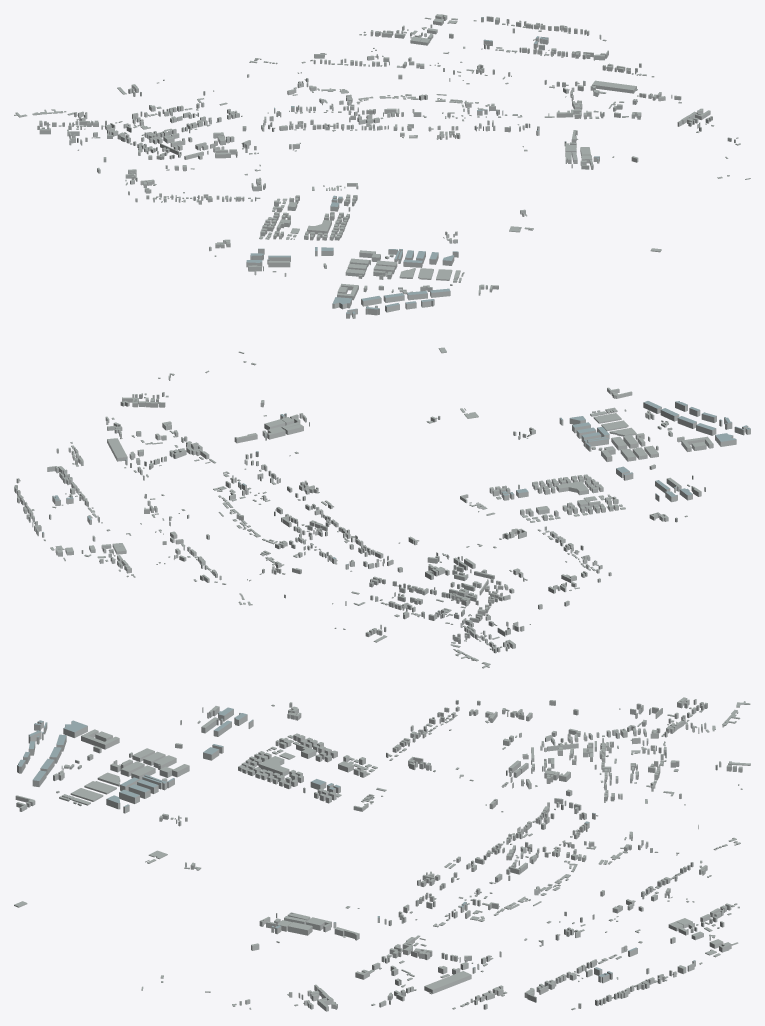
Rendered from far.glb.
3 renders of one model, top to bottom at view 1: azimuth 30°, elevation 25°; view 2: azimuth 150°, elevation 25°; view 3: azimuth 270°, elevation 25°, orthographic. The views are drawn at different scales.
Bounding box in the file's own units: 2118 × 23.2 × 2129.
